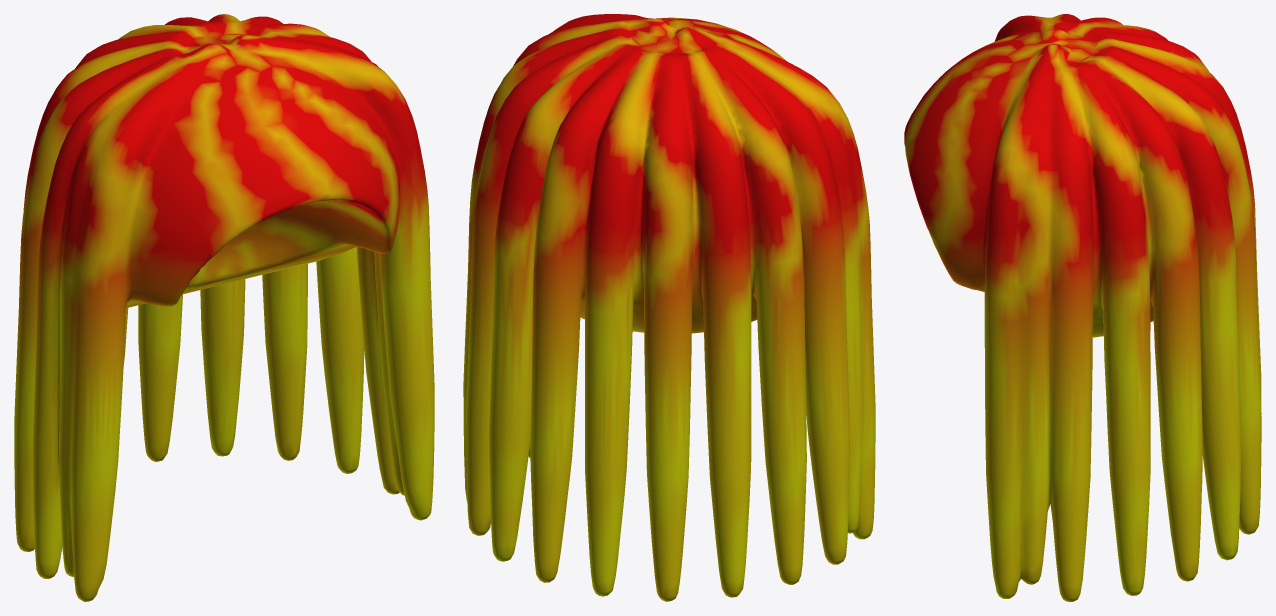
File: long-straight.glb
The picture shows the model from 3 angles, left to right: view 1: azimuth 30°, elevation 25°; view 2: azimuth 150°, elevation 25°; view 3: azimuth 270°, elevation 25°; orthographic projection. The views are drawn at different scales.
Parts seen in each view (by area): view 1: part; view 2: part; view 3: part.
Boxes of the visible parts, <box> form: part: <box>14,14,434,601</box>; part: <box>463,14,875,601</box>; part: <box>904,14,1261,601</box>.
Size of the model in its own units: 2.71 by 3.51 by 2.35.
